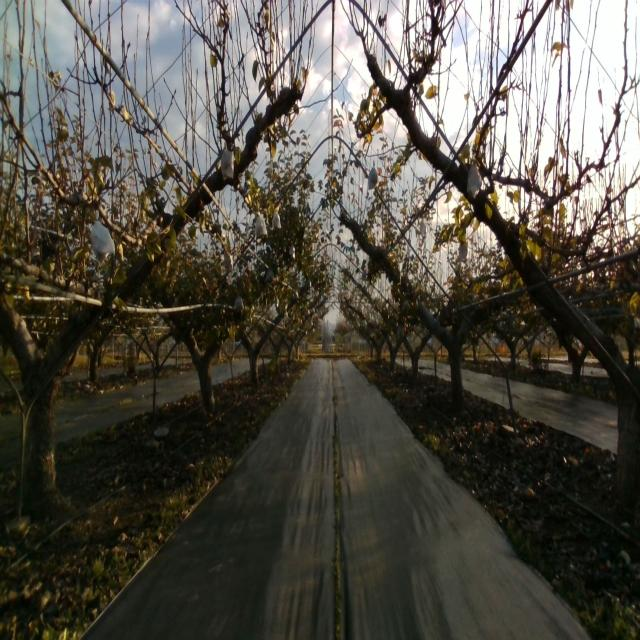pearbags: (91, 209, 115, 258), (466, 161, 482, 199), (220, 140, 234, 180), (254, 212, 268, 238), (368, 159, 378, 191), (272, 208, 282, 230), (458, 242, 468, 261)
